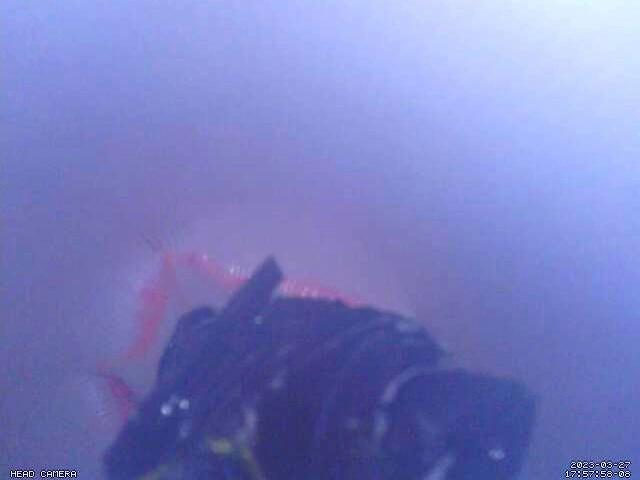head: (96, 248, 364, 424)
